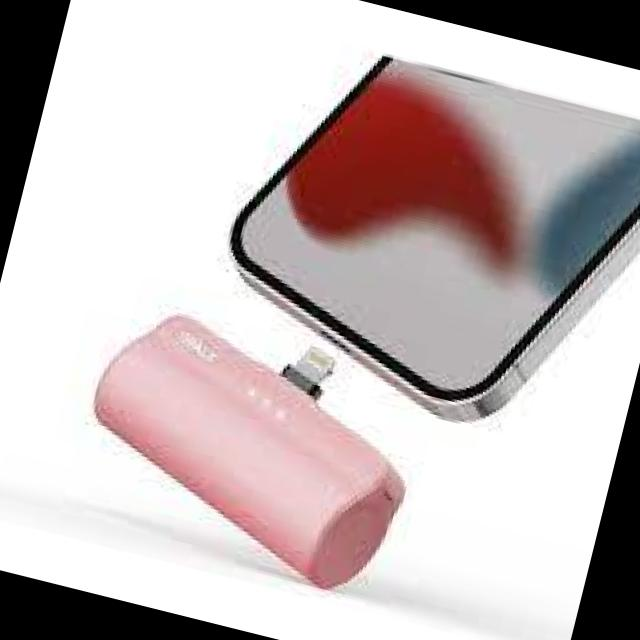power_bank: (58, 292, 438, 606)
